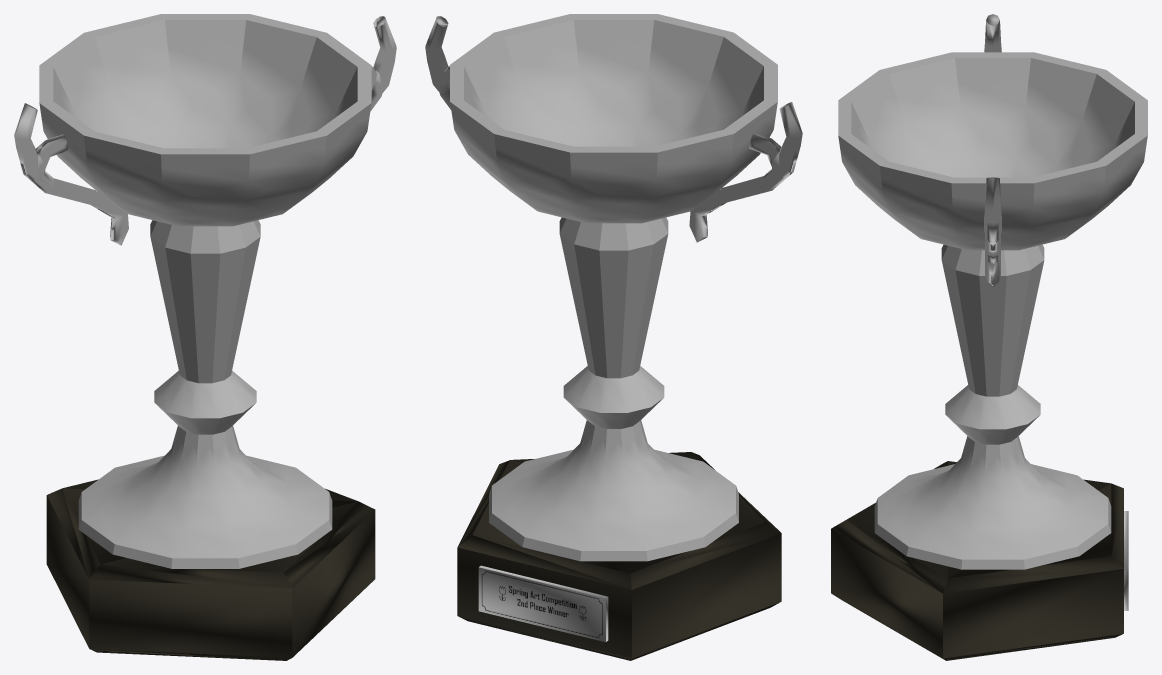
File: trophy.fbx
3 views of the same model, side by side, from view 1: azimuth 30°, elevation 25°; view 2: azimuth 150°, elevation 25°; view 3: azimuth 270°, elevation 25° (orthographic). The views are drawn at different scales.
Parts seen in each view (by area): view 1: cup, base, handles; view 2: cup, base, plaque, handles; view 3: cup, base, handles, plaque.
Part boxes in pixels (x1=…): cup: x1=39, y1=14, x2=371, y2=568; base: x1=46, y1=479, x2=375, y2=660; handles: x1=14, y1=16, x2=396, y2=245; cup: x1=450, y1=14, x2=777, y2=561; base: x1=457, y1=452, x2=781, y2=660; plaque: x1=478, y1=565, x2=608, y2=642; handles: x1=425, y1=16, x2=802, y2=242; cup: x1=838, y1=52, x2=1147, y2=569; base: x1=831, y1=461, x2=1123, y2=660; handles: x1=984, y1=14, x2=1001, y2=286; plaque: x1=1124, y1=511, x2=1128, y2=610.
Bounding box in the file's own units: 59.05 × 80.18 × 45.63.
3 materials, 1 textured.
